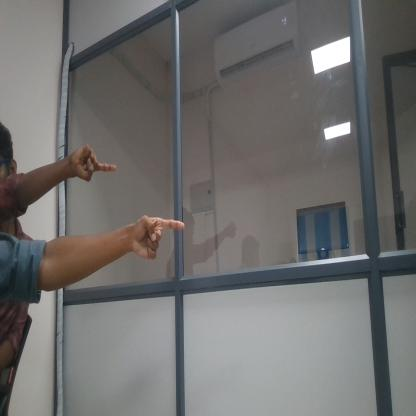Left: (126, 210, 196, 268), (65, 132, 128, 194)
